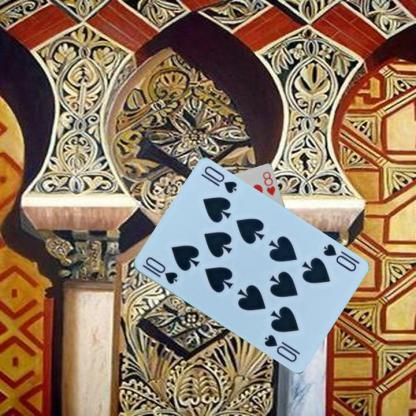10s: (139, 254, 179, 286), (320, 241, 358, 273)
